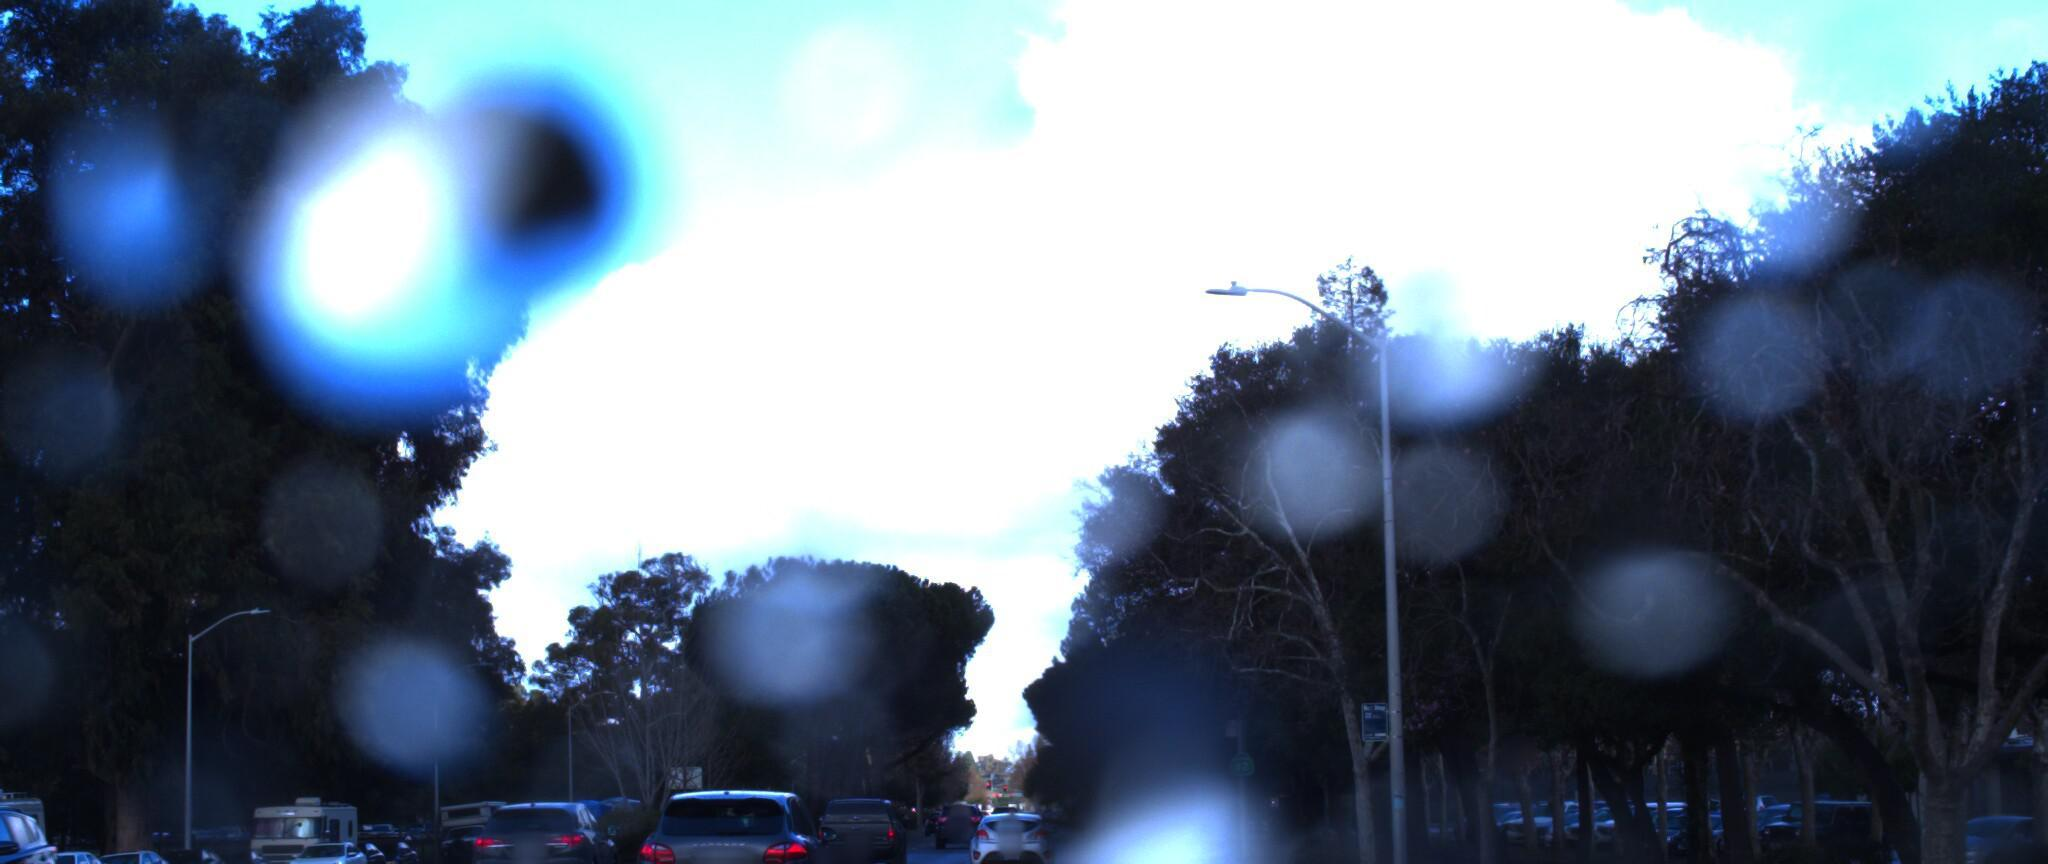car: (611, 777, 854, 864), (461, 783, 632, 864), (808, 766, 910, 848), (0, 784, 97, 864), (1125, 804, 1242, 864), (967, 800, 1061, 864), (0, 846, 135, 864)
other_vehicle: (0, 780, 71, 864)
